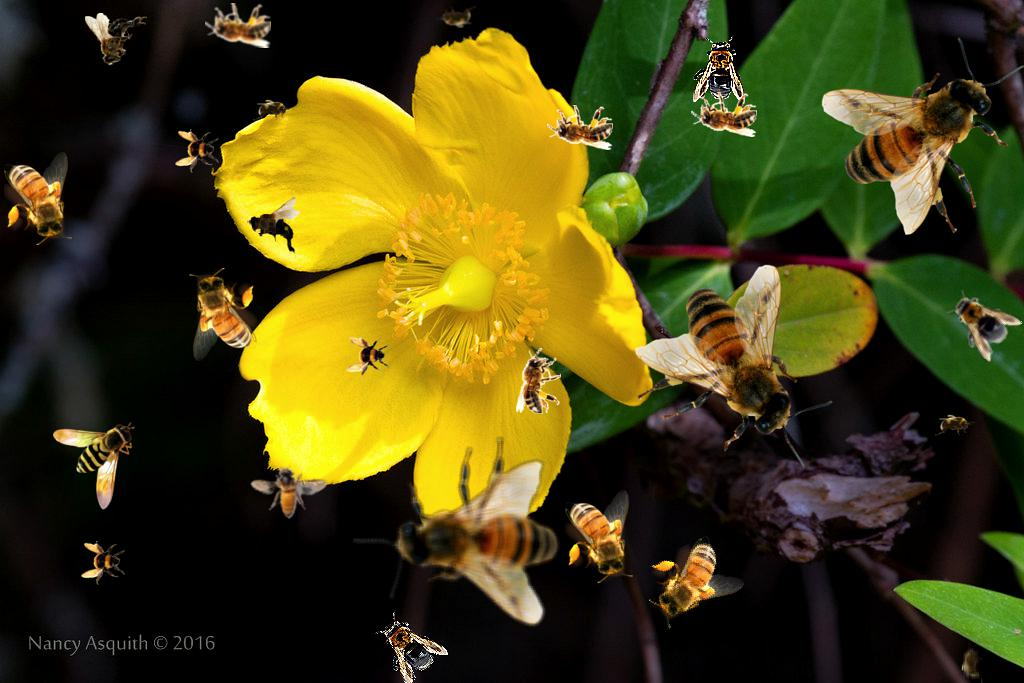Bee: (334, 397, 615, 677), (635, 264, 834, 468), (821, 36, 1024, 235), (634, 529, 748, 632), (937, 280, 1023, 364), (53, 422, 135, 510), (364, 604, 450, 683), (243, 453, 329, 528), (189, 268, 257, 361), (565, 490, 633, 583), (4, 152, 72, 245), (693, 36, 745, 104), (247, 197, 300, 259), (85, 13, 147, 66), (516, 348, 561, 414), (691, 92, 757, 137), (547, 105, 613, 150), (205, 3, 271, 48), (81, 541, 125, 585), (175, 129, 219, 173), (346, 335, 390, 379), (961, 643, 983, 683), (436, 6, 476, 28), (935, 414, 975, 436), (253, 99, 293, 121)
